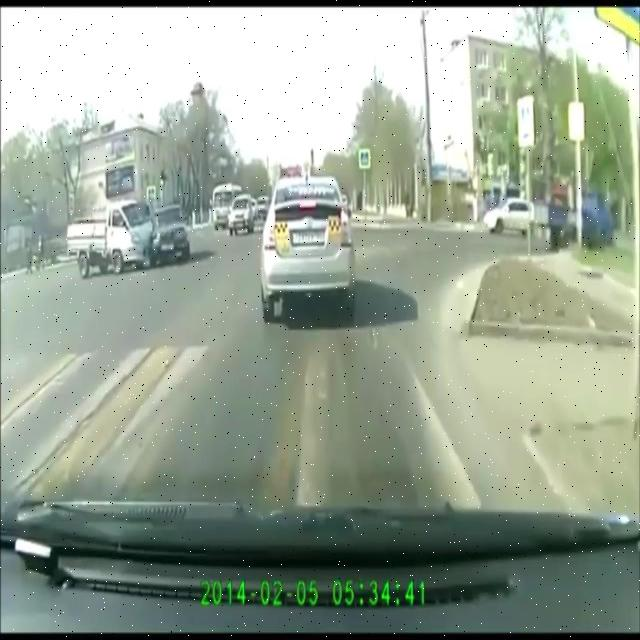moderate: (64, 196, 194, 282)
